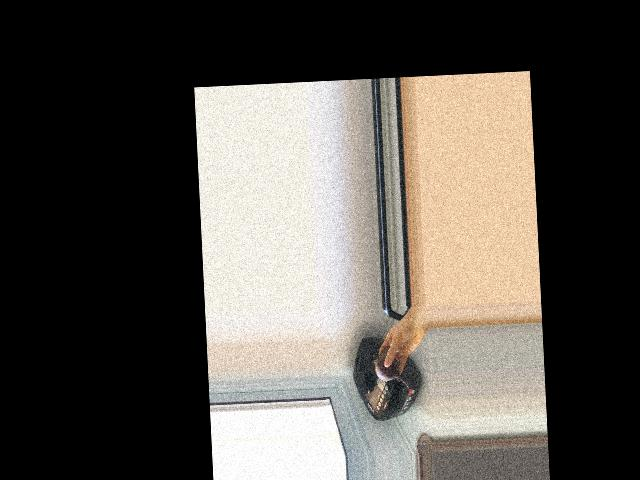beet: (372, 345, 410, 392)
